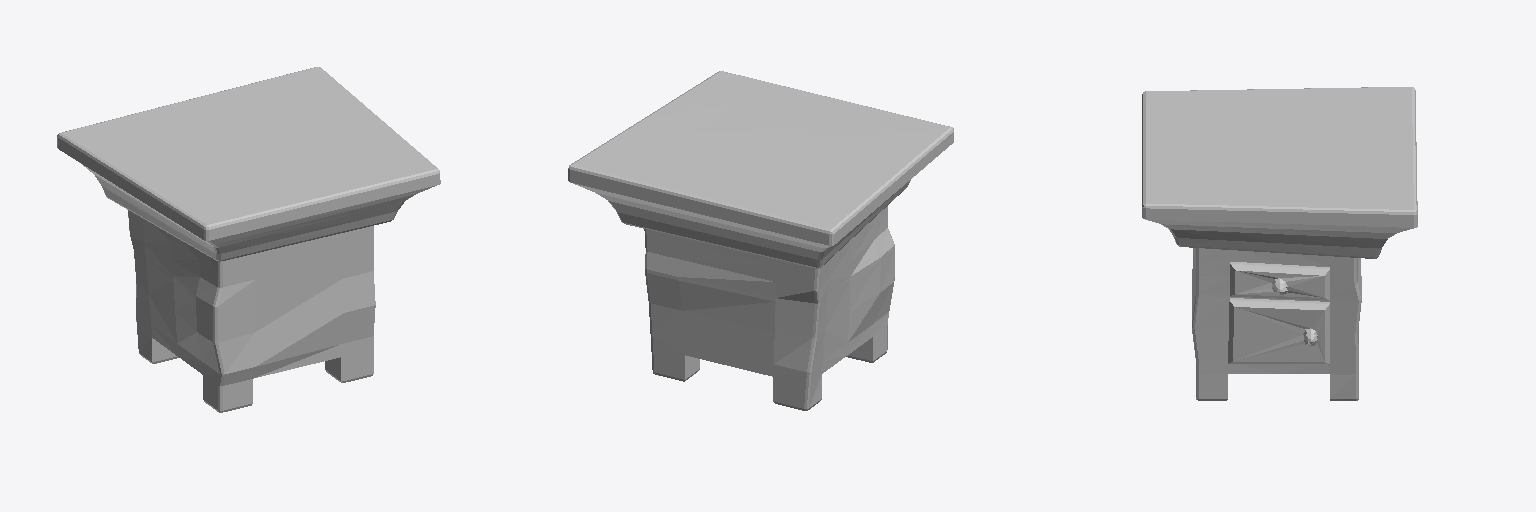
Rendered from BedsideCabinet.obj.
3 views of the same model, side by side, from view 1: azimuth 30°, elevation 25°; view 2: azimuth 150°, elevation 25°; view 3: azimuth 270°, elevation 25° (orthographic).
Visible parts, largest first — view 1: BedsideCabinet; view 2: BedsideCabinet; view 3: BedsideCabinet.
Part boxes in pixels (x1,y1,x2,y2): BedsideCabinet: (57, 67, 440, 412); BedsideCabinet: (568, 71, 953, 410); BedsideCabinet: (1142, 87, 1417, 400).
Bounding box in the file's own units: 37.27 × 29.29 × 33.59.